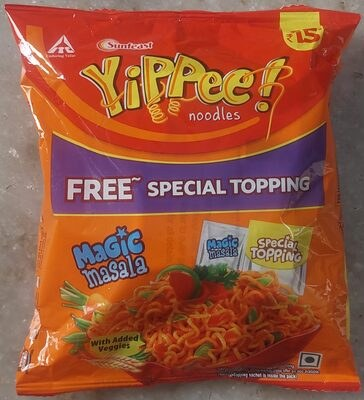Yippee Noodles: (18, 20, 346, 380)
